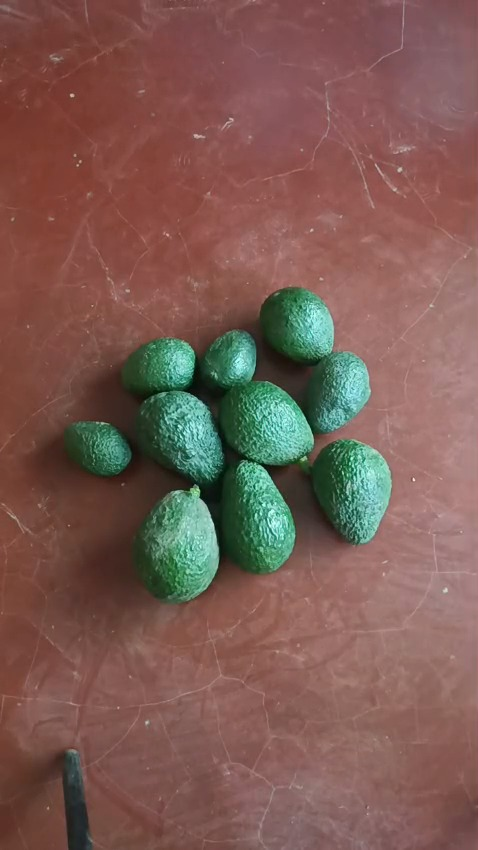Primera: (133, 490, 220, 603), (134, 389, 228, 488), (310, 438, 394, 543), (219, 460, 295, 572), (219, 380, 315, 466)
Segunda: (302, 353, 372, 436), (258, 286, 333, 362)
Tercera: (120, 338, 196, 397), (63, 420, 132, 476), (199, 329, 259, 393)
